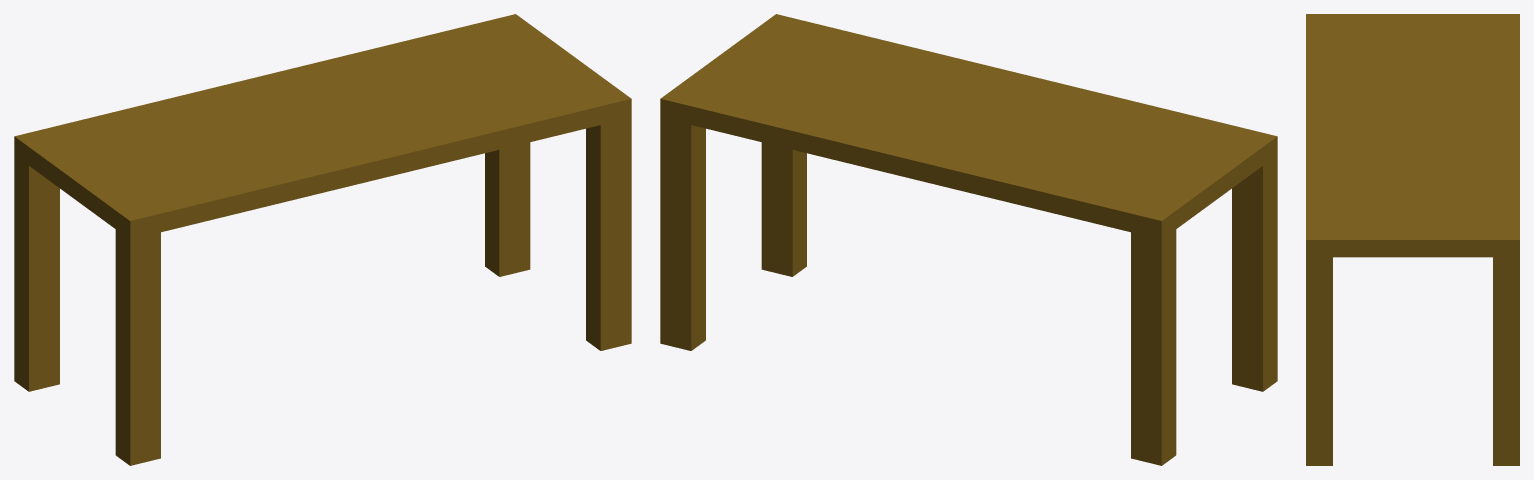
Rendered from Meja.fbx.
3 views of the same model, side by side, from view 1: azimuth 30°, elevation 25°; view 2: azimuth 150°, elevation 25°; view 3: azimuth 270°, elevation 25° (orthographic). The views are drawn at different scales.
Parts seen in each view (by area): view 1: Cube; view 2: Cube; view 3: Cube.
Part boxes in pixels (bbox=[...]): Cube: bbox=[14, 14, 631, 465]; Cube: bbox=[660, 14, 1277, 465]; Cube: bbox=[1306, 14, 1519, 465].
Bounding box in the file's own units: 150 × 70 × 60.
